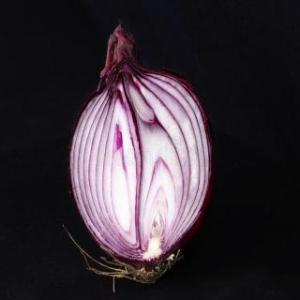onion: (64, 19, 212, 286)
